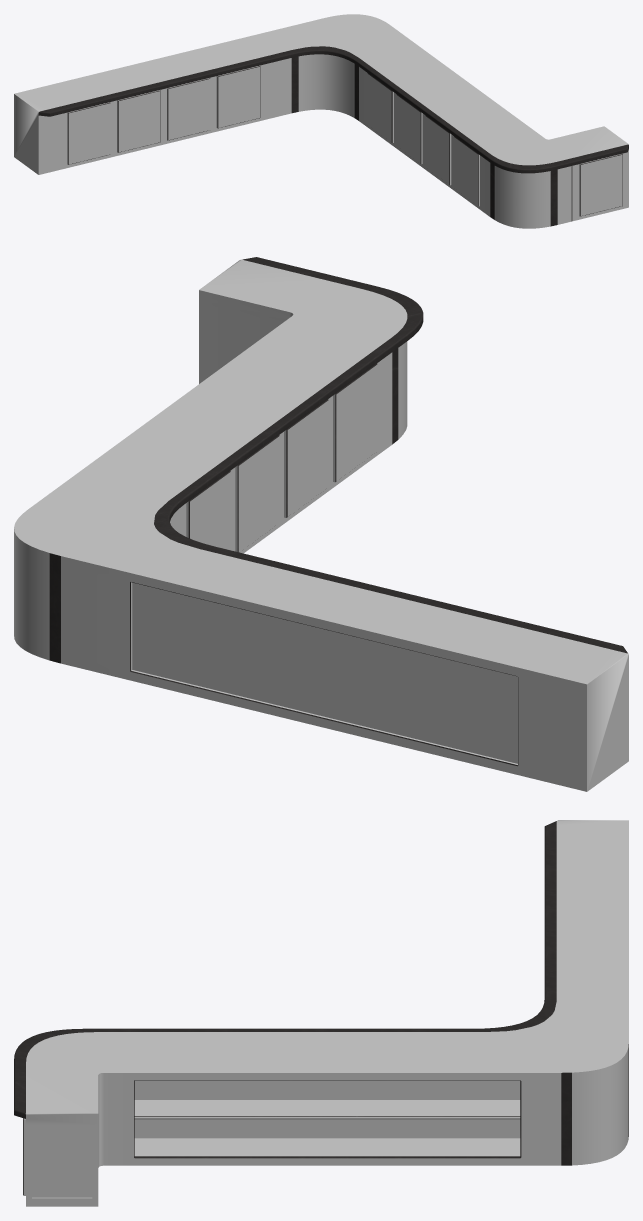
File: studio_bar.fbx
The picture shows the model from 3 angles, top to bottom: view 1: azimuth 30°, elevation 25°; view 2: azimuth 150°, elevation 25°; view 3: azimuth 270°, elevation 25°; orthographic projection. The views are drawn at different scales.
Visible parts, largest first — view 1: mesh_2; view 2: mesh_2; view 3: mesh_2.
Boxes of the visible parts, x1,y1,x2,y2 form: mesh_2: (14, 14, 628, 228); mesh_2: (14, 257, 628, 791); mesh_2: (14, 820, 628, 1206).
Size of the model in its own units: 230 by 34 by 204.
